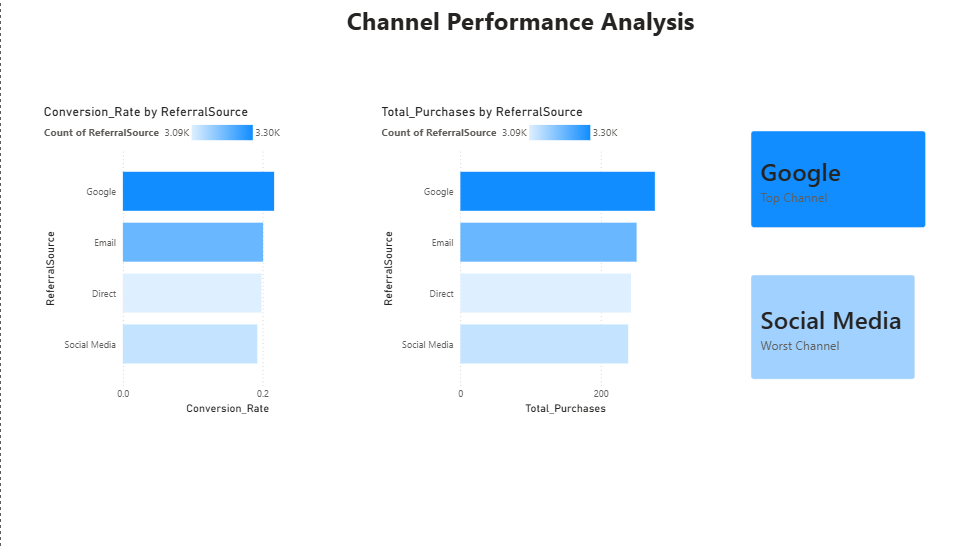

What the dashboard file says about the page in this screenshot:
{"tool":"powerbi","page":{"name":"Channel Performance Analysis","canvas":[1280,720],"ordinal":4},"visuals":[{"type":"textbox","box":[446.9,0,490.6,58.3],"z":0},{"type":"cardVisual","fields":{"Data":["key_measures.Top Channel"]},"box":[961.8,155.4,263.9,161.9],"z":1000},{"type":"cardVisual","fields":{"Data":["key_measures.Worst Channel"]},"box":[961.8,343.3,249.4,171.6],"z":2000},{"type":"clusteredBarChart","fields":{"Category":["customer_journey.ReferralSource"],"Y":["key_measures.Conversion_Rate"]},"box":[51.8,137.6,395.1,409.7],"z":3001},{"type":"clusteredBarChart","fields":{"Category":["customer_journey.ReferralSource"],"Y":["key_measures.Total_Purchases"]},"box":[492.2,137.6,398.3,409.7],"z":3002}]}

Visuals, with their boxes in screenshot pixels (x1, y1, x2, y2), scaled from the page's 1280x720 canvas onto the 979x548 screenshot:
textbox: [left=342, top=0, right=717, bottom=44]
cardVisual - key_measures.Top Channel: [left=736, top=118, right=937, bottom=242]
cardVisual - key_measures.Worst Channel: [left=736, top=261, right=926, bottom=392]
clusteredBarChart - customer_journey.ReferralSource x key_measures.Conversion_Rate: [left=40, top=105, right=342, bottom=417]
clusteredBarChart - customer_journey.ReferralSource x key_measures.Total_Purchases: [left=376, top=105, right=681, bottom=417]
